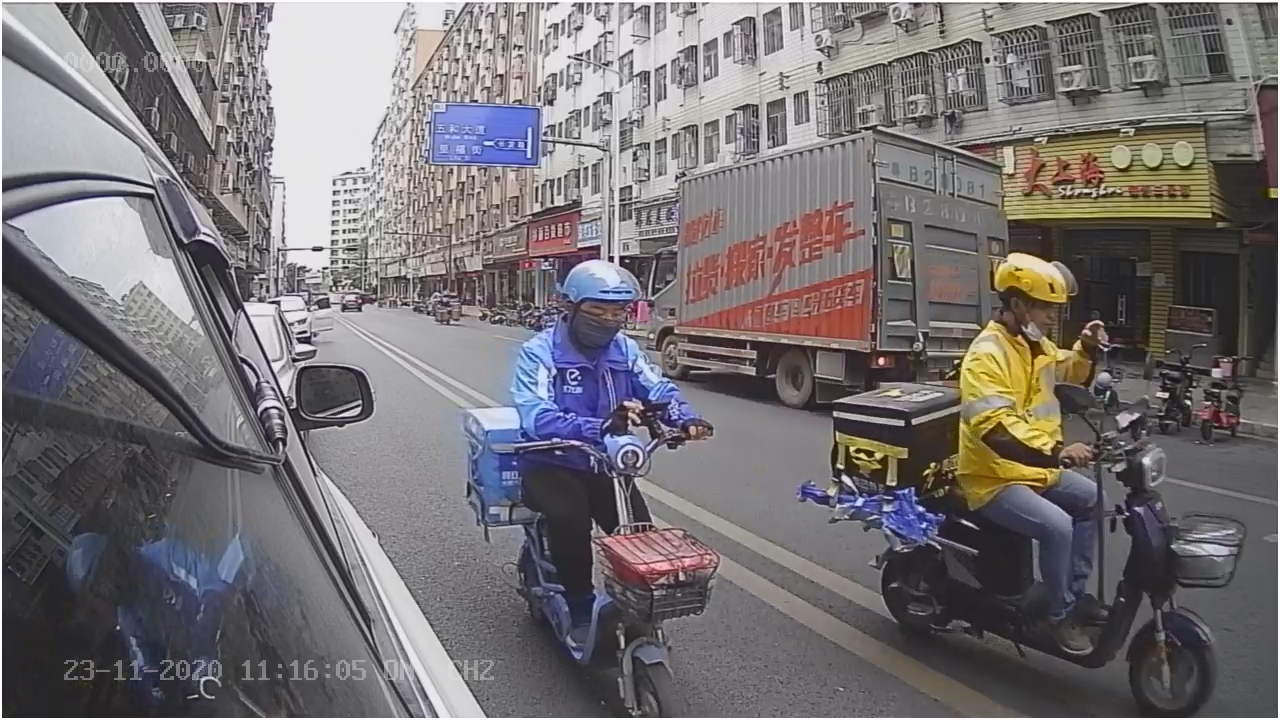person: (507, 255, 691, 417), (950, 247, 1128, 409)
